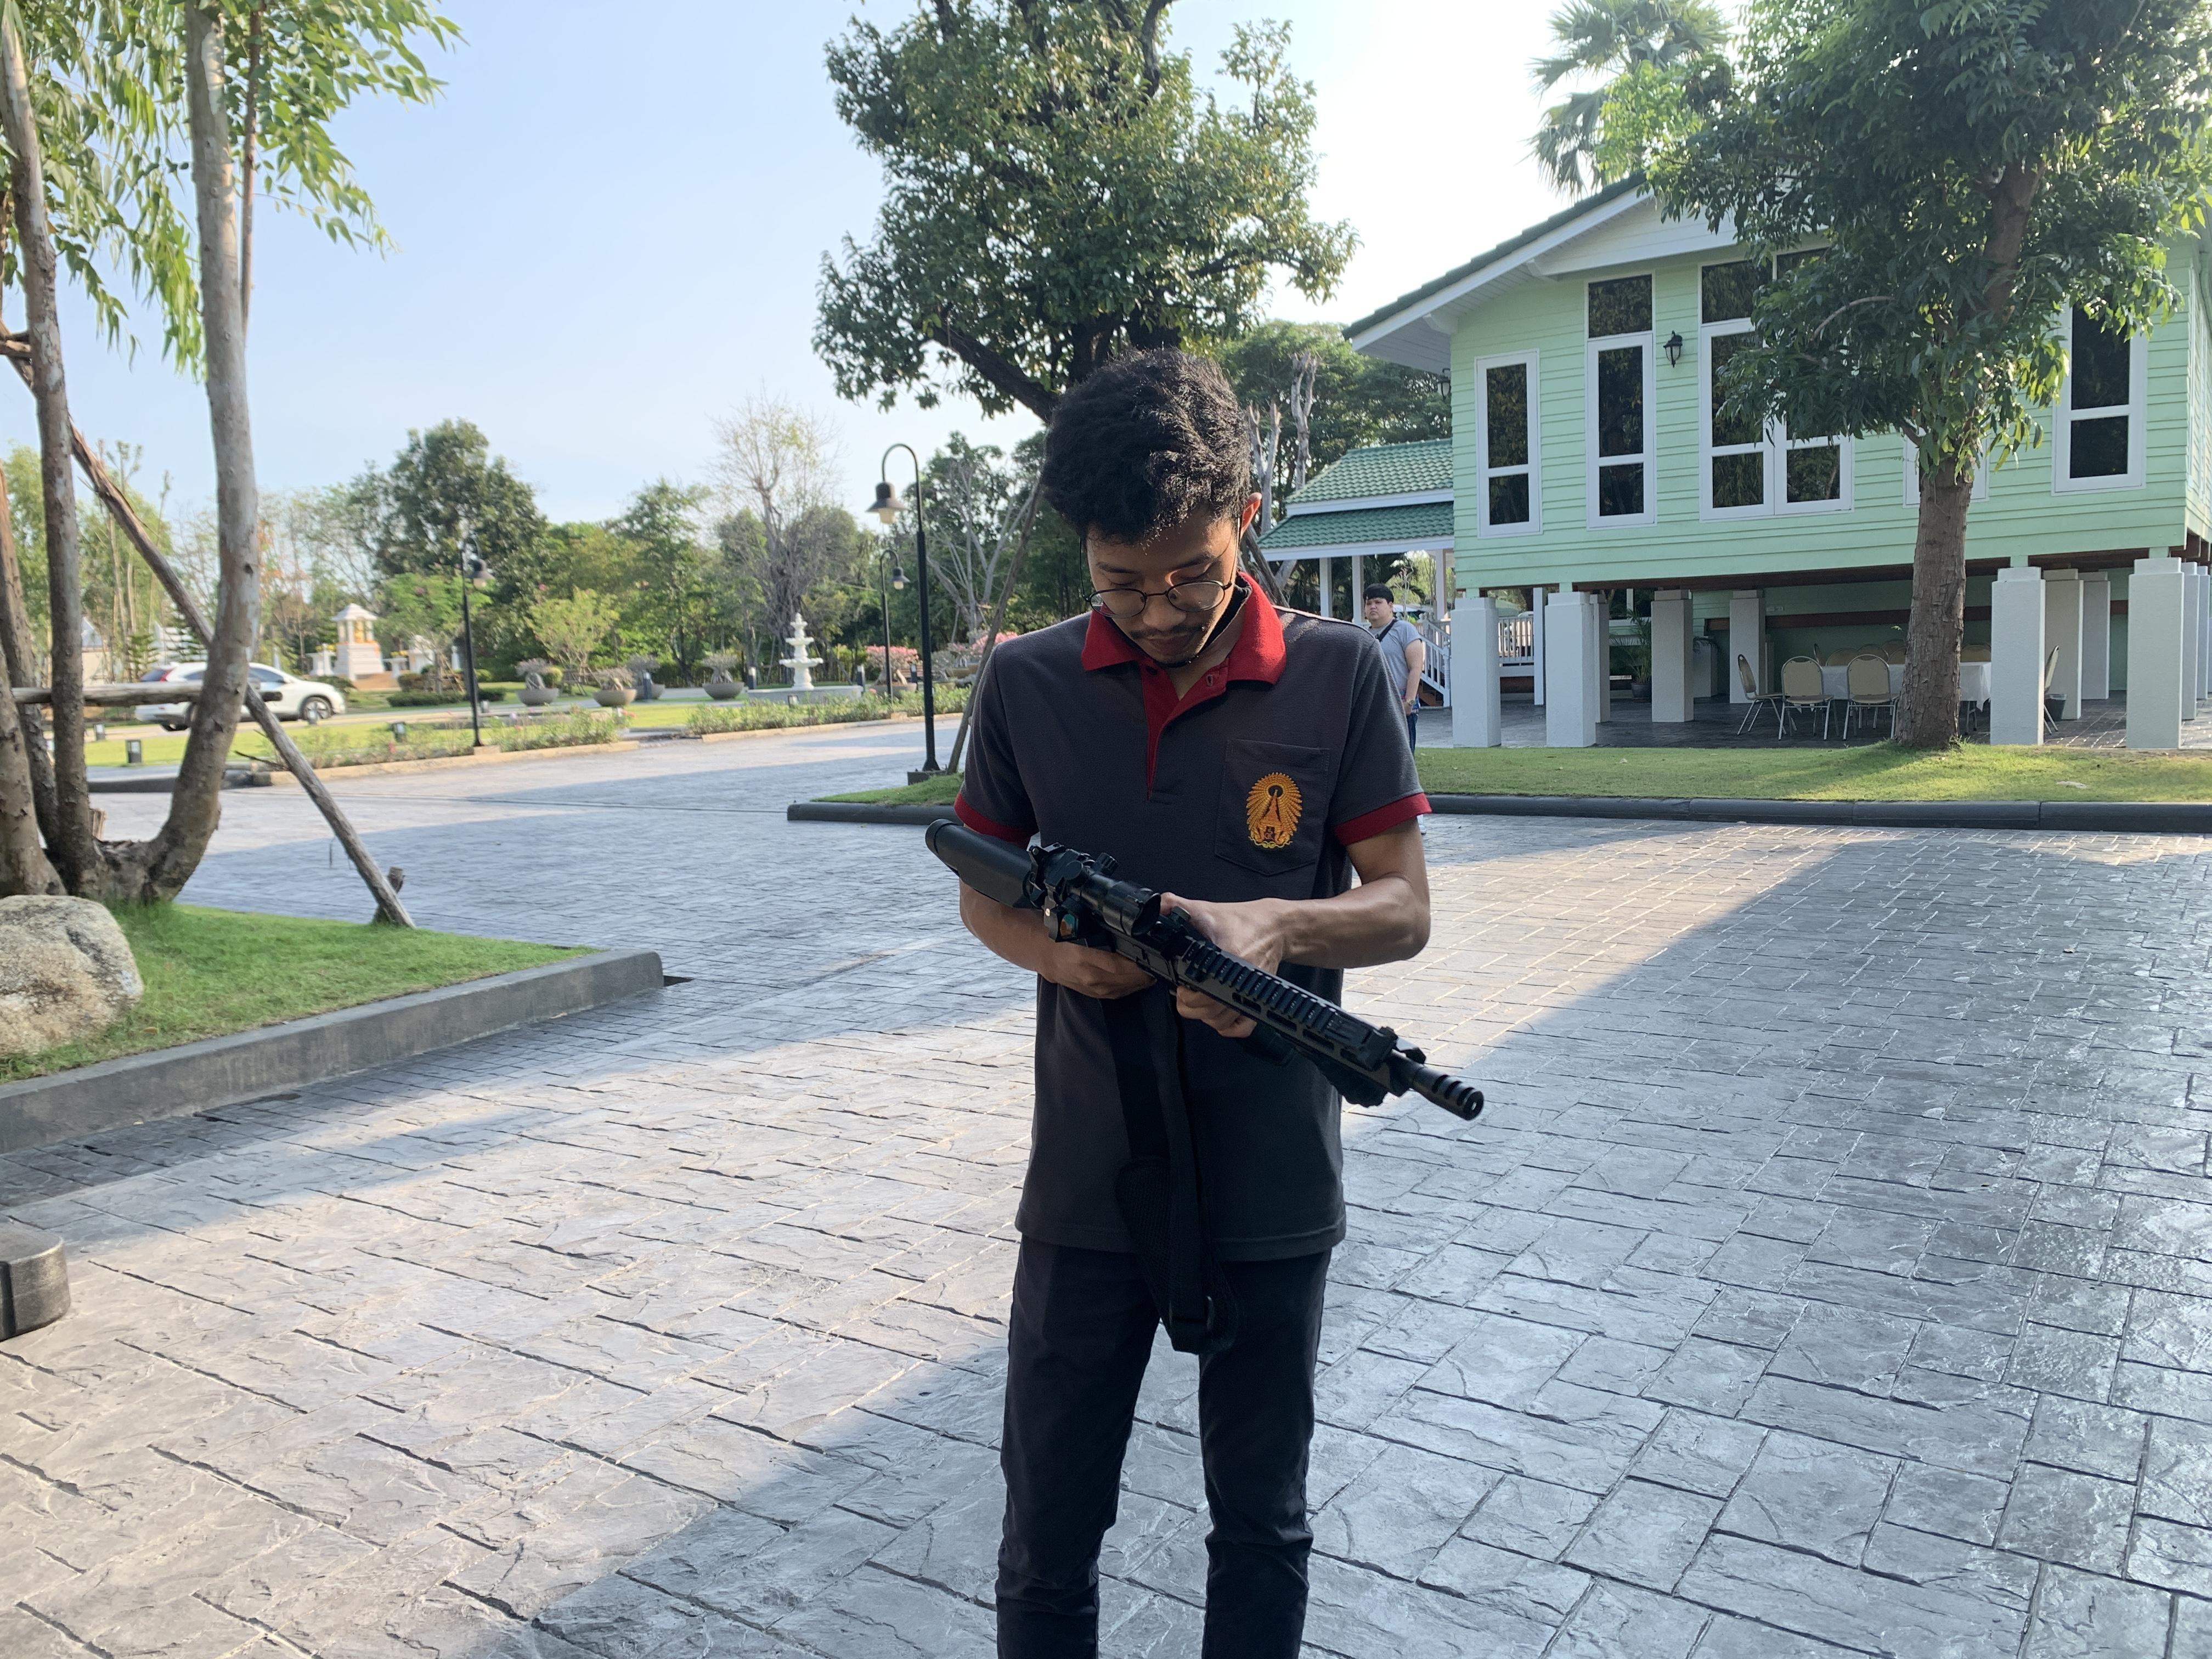criminal: (923, 343, 1487, 1659)
weapon: (921, 816, 1489, 1129)
